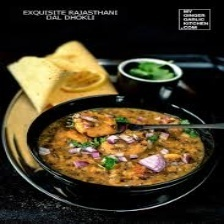sabzi: (32, 103, 215, 190)
